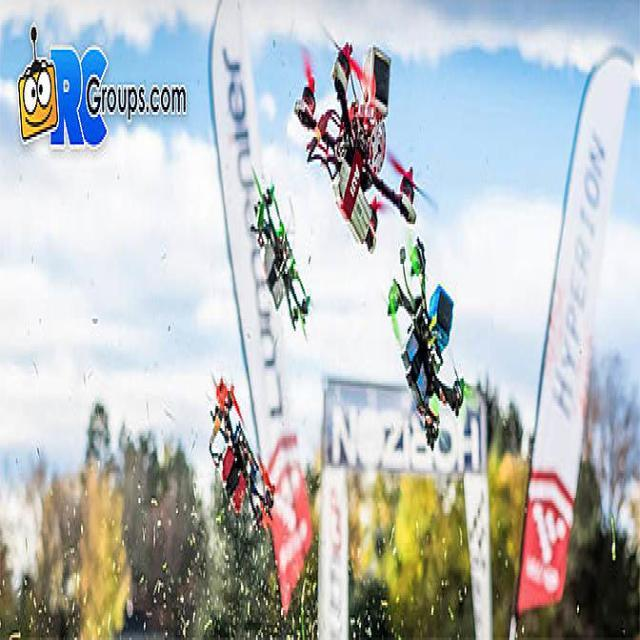drones: (285, 14, 438, 270), (384, 226, 478, 469), (203, 349, 283, 563), (243, 150, 316, 366)
